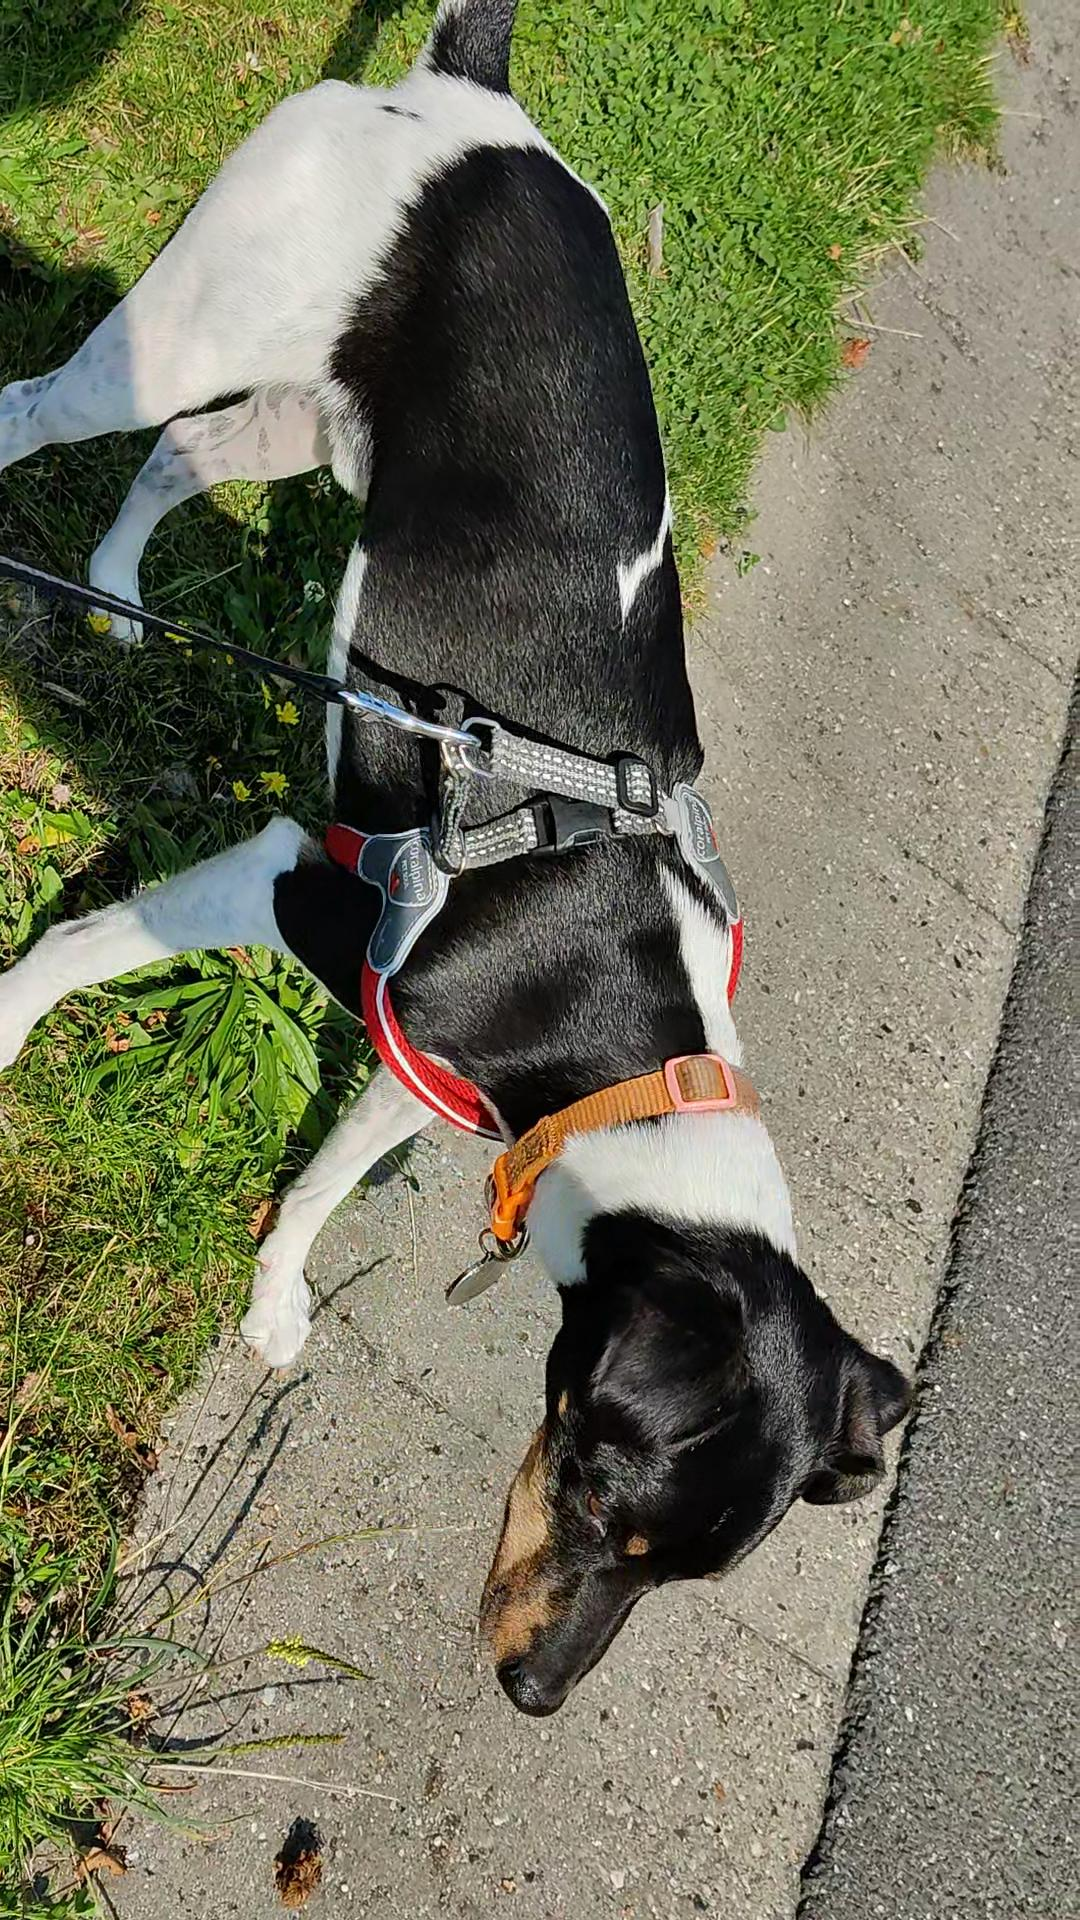Dog: (0, 0, 938, 1724)
